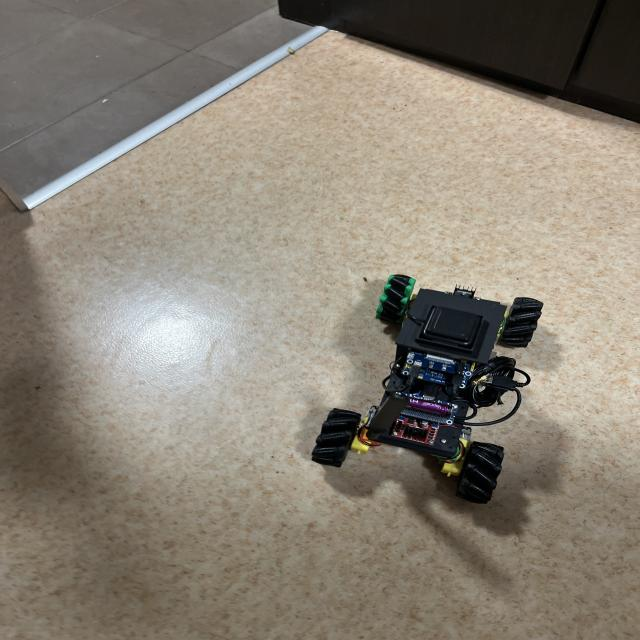robot: (312, 274, 543, 503)
